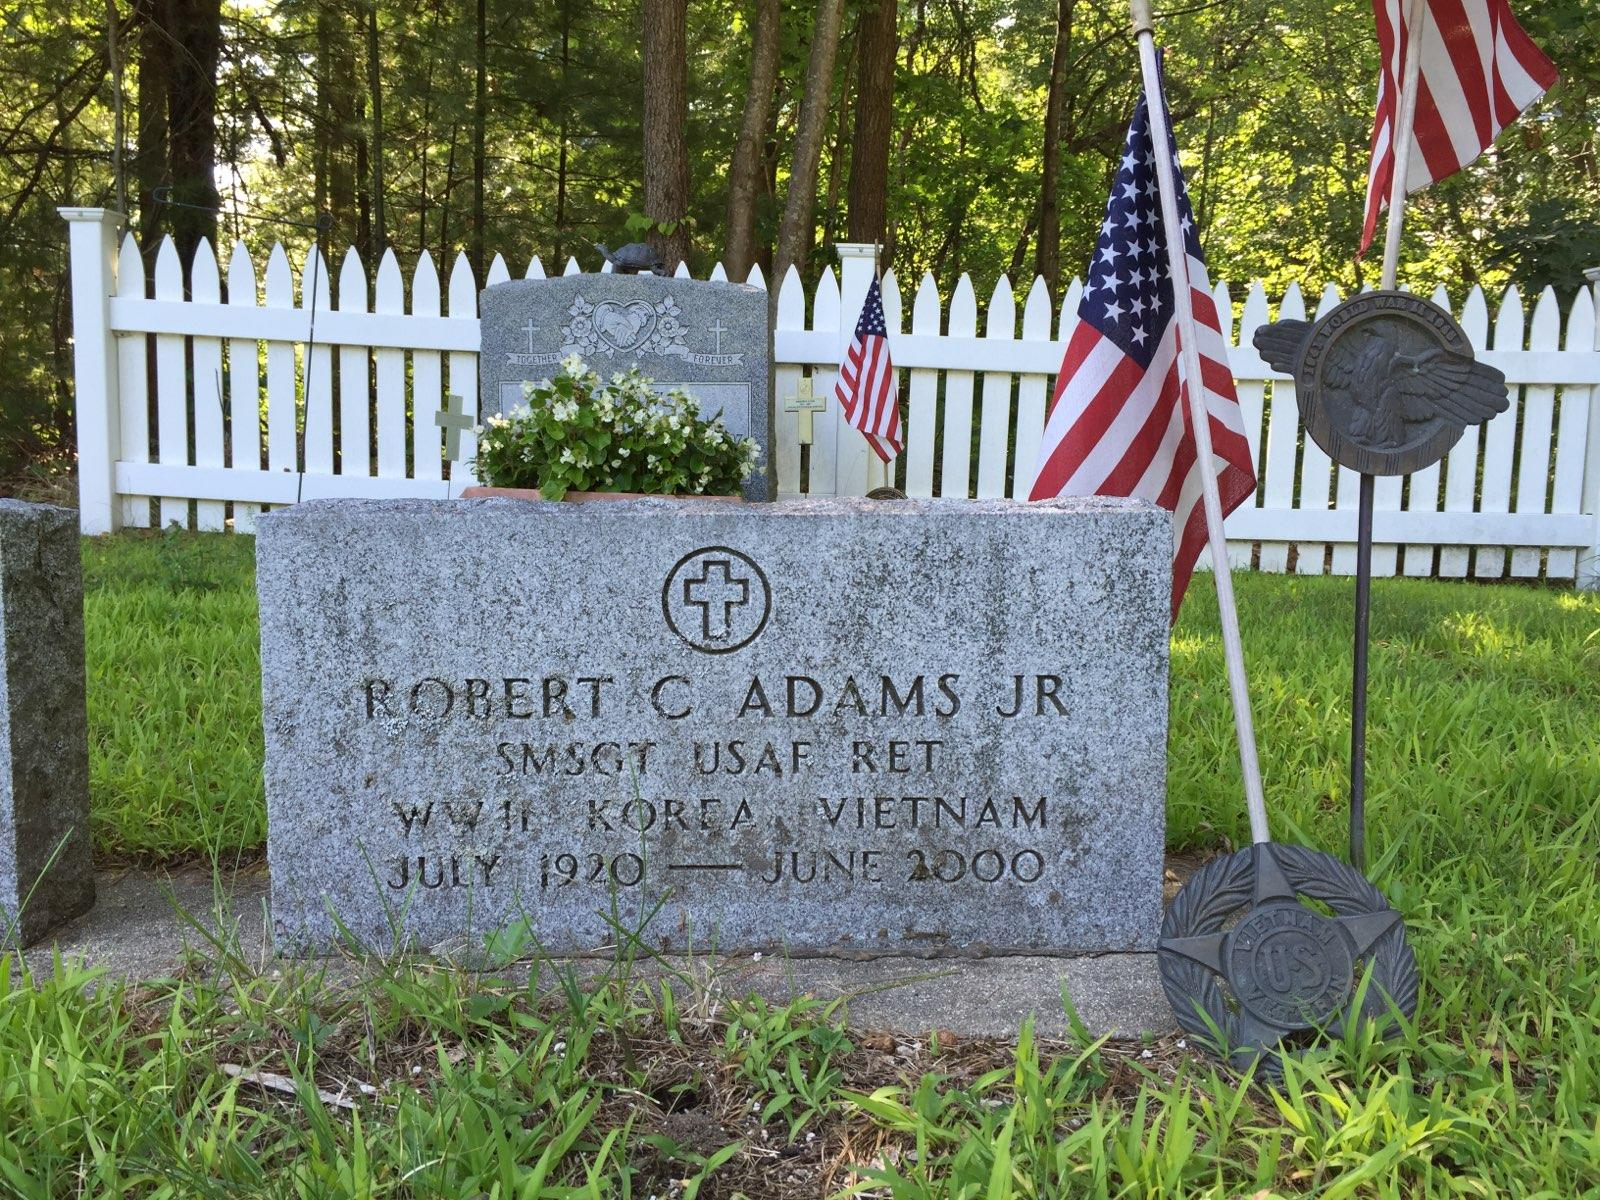upright: (257, 492, 1167, 964)
